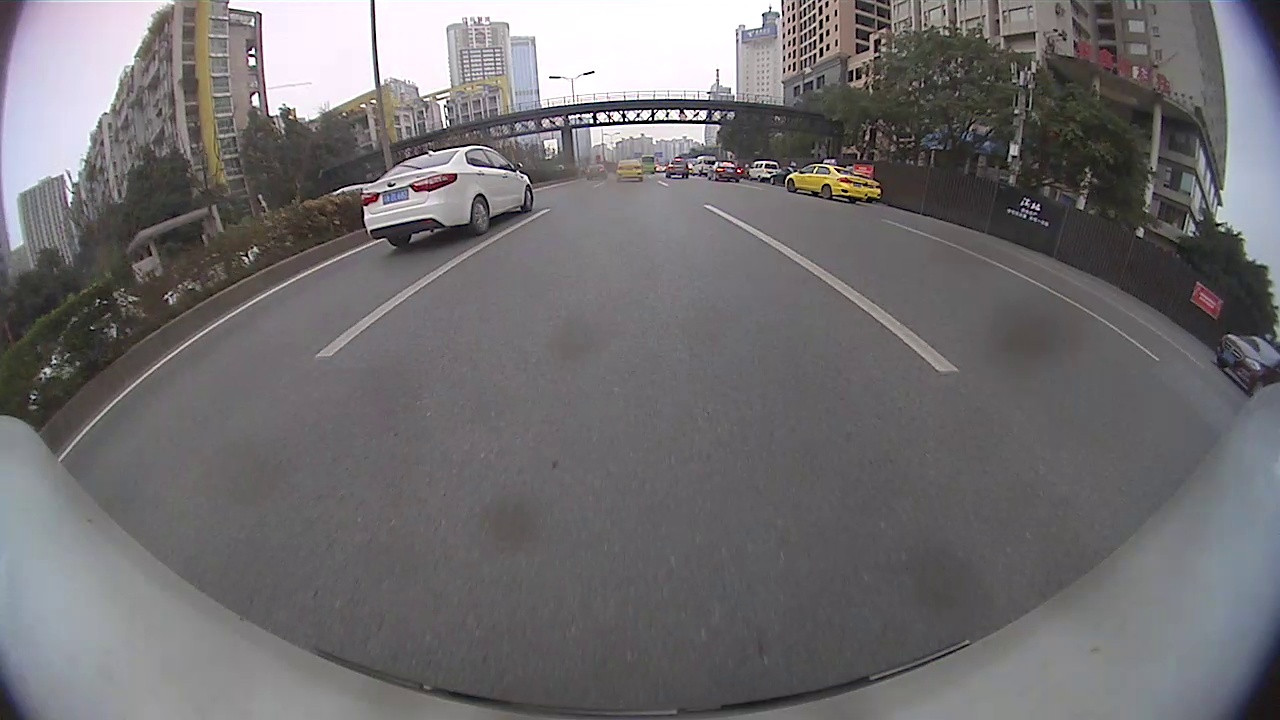car: (360, 146, 534, 247), (1216, 332, 1279, 394), (787, 162, 871, 205), (708, 160, 742, 182), (616, 157, 641, 182), (664, 159, 690, 180)
front: (521, 186, 536, 213)
rear: (469, 197, 494, 236), (820, 183, 834, 200)
